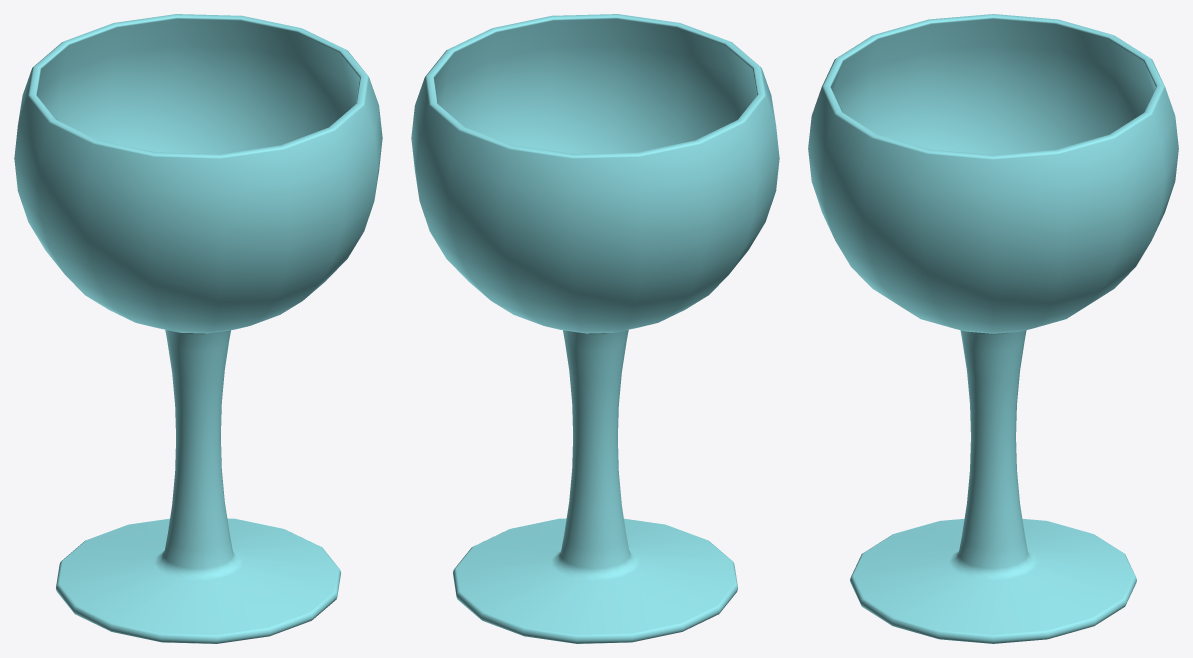
File: City_16_Glass_1.glb
3 renders of one model, left to right at view 1: azimuth 30°, elevation 25°; view 2: azimuth 150°, elevation 25°; view 3: azimuth 270°, elevation 25°, orthographic.
Visible parts, largest first — view 1: City_16_Glass_1; view 2: City_16_Glass_1; view 3: City_16_Glass_1.
Part boxes in pixels (x1,y1,x2,y2): City_16_Glass_1: (14, 14, 382, 643); City_16_Glass_1: (411, 14, 779, 643); City_16_Glass_1: (808, 14, 1178, 643).
Bounding box in the file's own units: 0.1491 × 0.2215 × 0.1491.
1 material, 1 textured.
